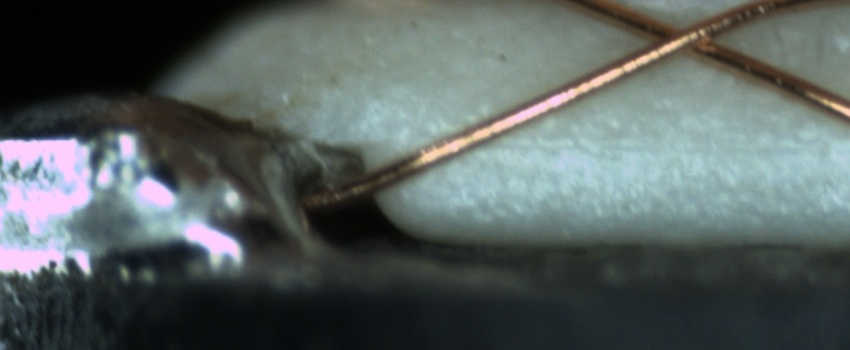CL: (627, 7, 733, 65)
DL: (463, 113, 850, 177)
